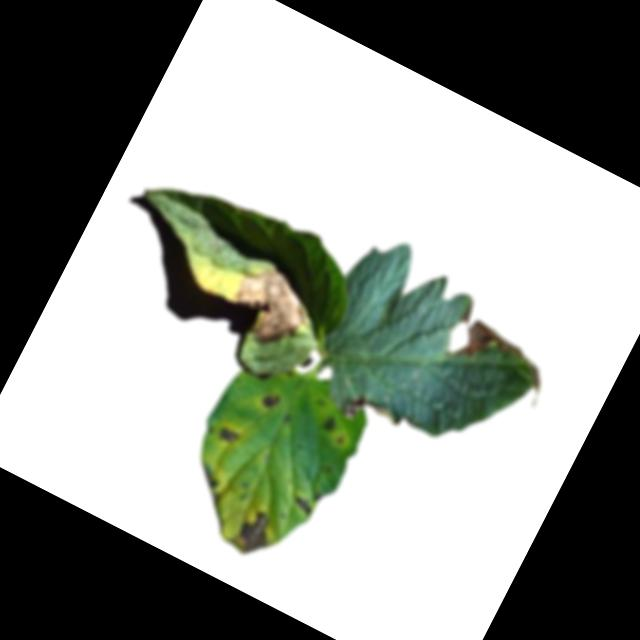Early_blight: (436, 298, 567, 410), (216, 254, 321, 360), (220, 501, 280, 566), (338, 383, 394, 432), (288, 493, 317, 519), (195, 465, 222, 490), (214, 424, 240, 448), (260, 388, 282, 413), (319, 415, 338, 437)
